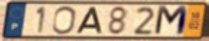1: (35, 6, 47, 35)
2: (133, 6, 156, 36)
8: (108, 5, 129, 36)
A: (75, 7, 104, 35)
M: (153, 5, 190, 37)
O: (50, 5, 77, 36)
